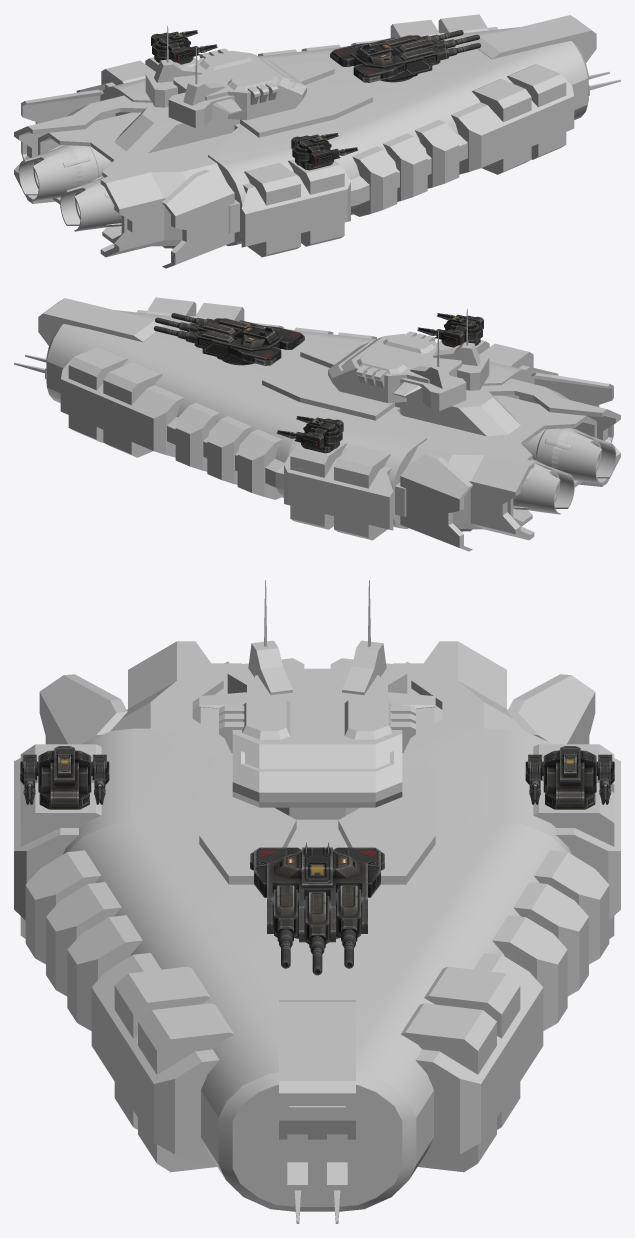
File: FChuan.fbx
3 views of the same model, one above another, from view 1: azimuth 30°, elevation 25°; view 2: azimuth 150°, elevation 25°; view 3: azimuth 270°, elevation 25° (orthographic). The views are drawn at different scales.
Parts seen in each view (by area): view 1: M12, M11; view 2: M12, M11; view 3: M12, M11.
Boxes of the visible parts, x1,y1,x2,y2 form: M12: [14, 14, 620, 268]; M11: [151, 30, 480, 170]; M12: [14, 297, 620, 551]; M11: [154, 313, 483, 453]; M12: [14, 580, 620, 1223]; M11: [20, 746, 614, 975].
Size of the model in its own units: 9.92 by 3.55 by 5.13.
